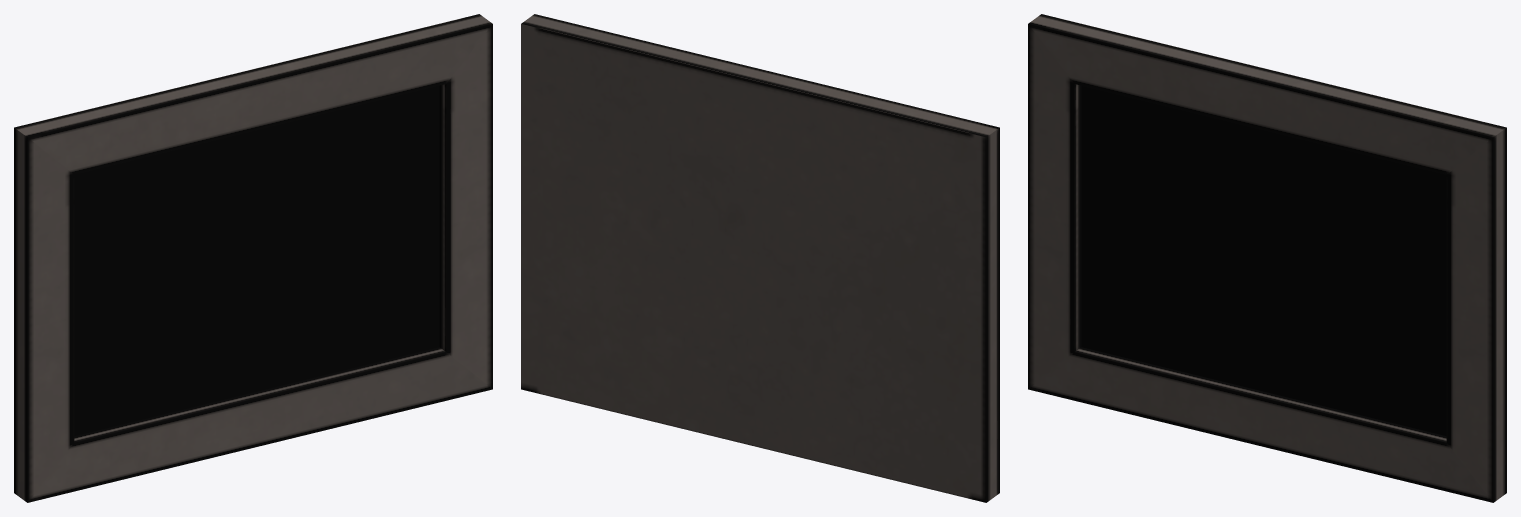
Rendered from PictureFrame.fbx.
3 views of the same model, side by side, from view 1: azimuth 30°, elevation 25°; view 2: azimuth 150°, elevation 25°; view 3: azimuth 330°, elevation 25° (orthographic).
Parts seen in each view (by area): view 1: PictureFrame(Image), PictureFrame; view 2: PictureFrame; view 3: PictureFrame(Image), PictureFrame.
Boxes of the visible parts, x1,y1,x2,y2 form: PictureFrame(Image): (74,85,439,436); PictureFrame: (14,14,492,502); PictureFrame: (521,14,999,502); PictureFrame(Image): (1081,85,1446,436); PictureFrame: (1028,14,1506,502).
Size of the model in its own units: 49.95 by 37.5 by 2.5.
